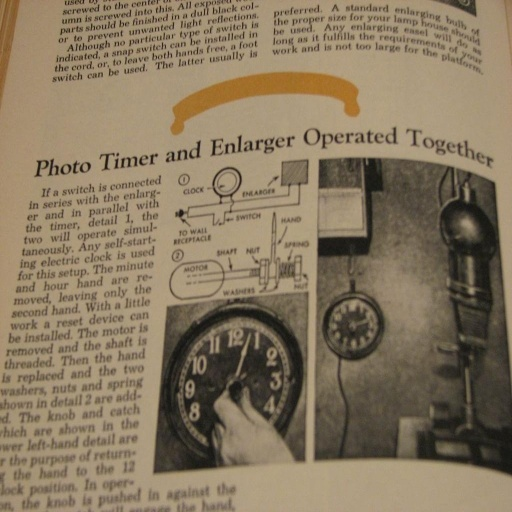hand: (208, 384, 293, 468)
